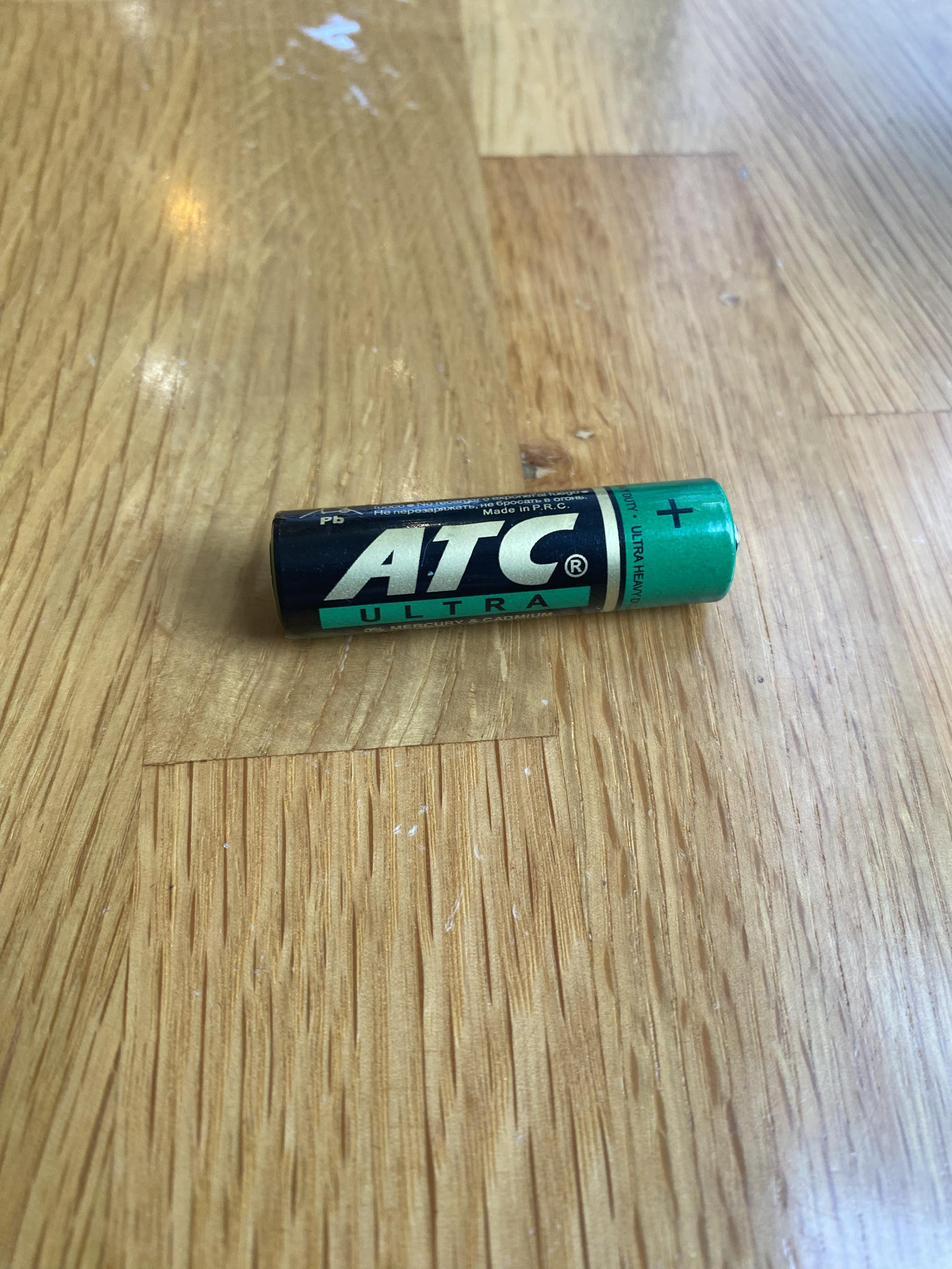AA: (264, 472, 745, 642)
